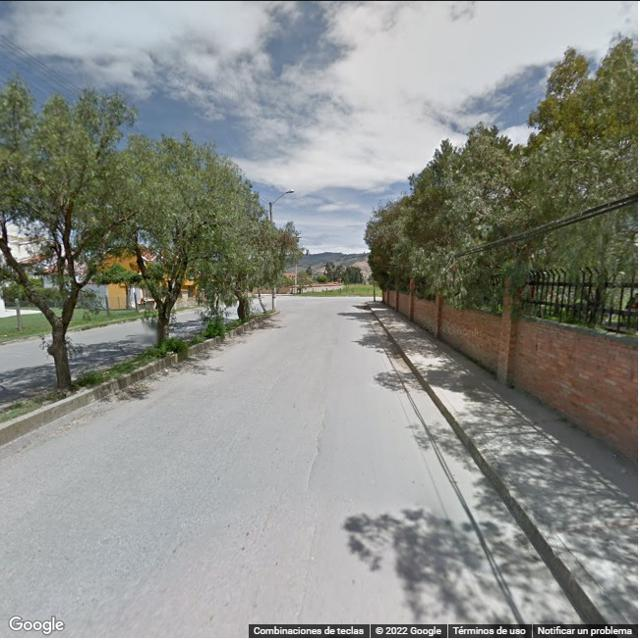D00: (305, 397, 334, 492), (302, 507, 318, 622)
